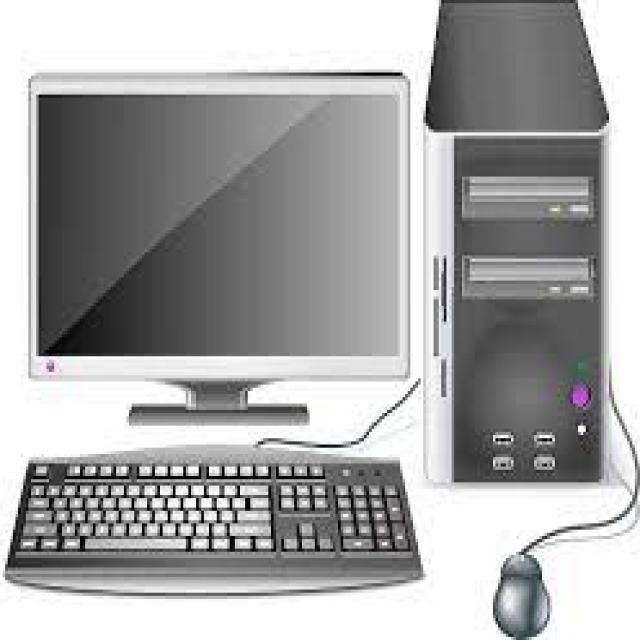keyboard: (12, 443, 417, 597)
komputer: (22, 70, 413, 425)
mouse: (492, 551, 558, 634)
